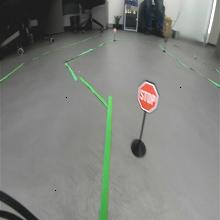stop: (137, 79, 159, 114)
